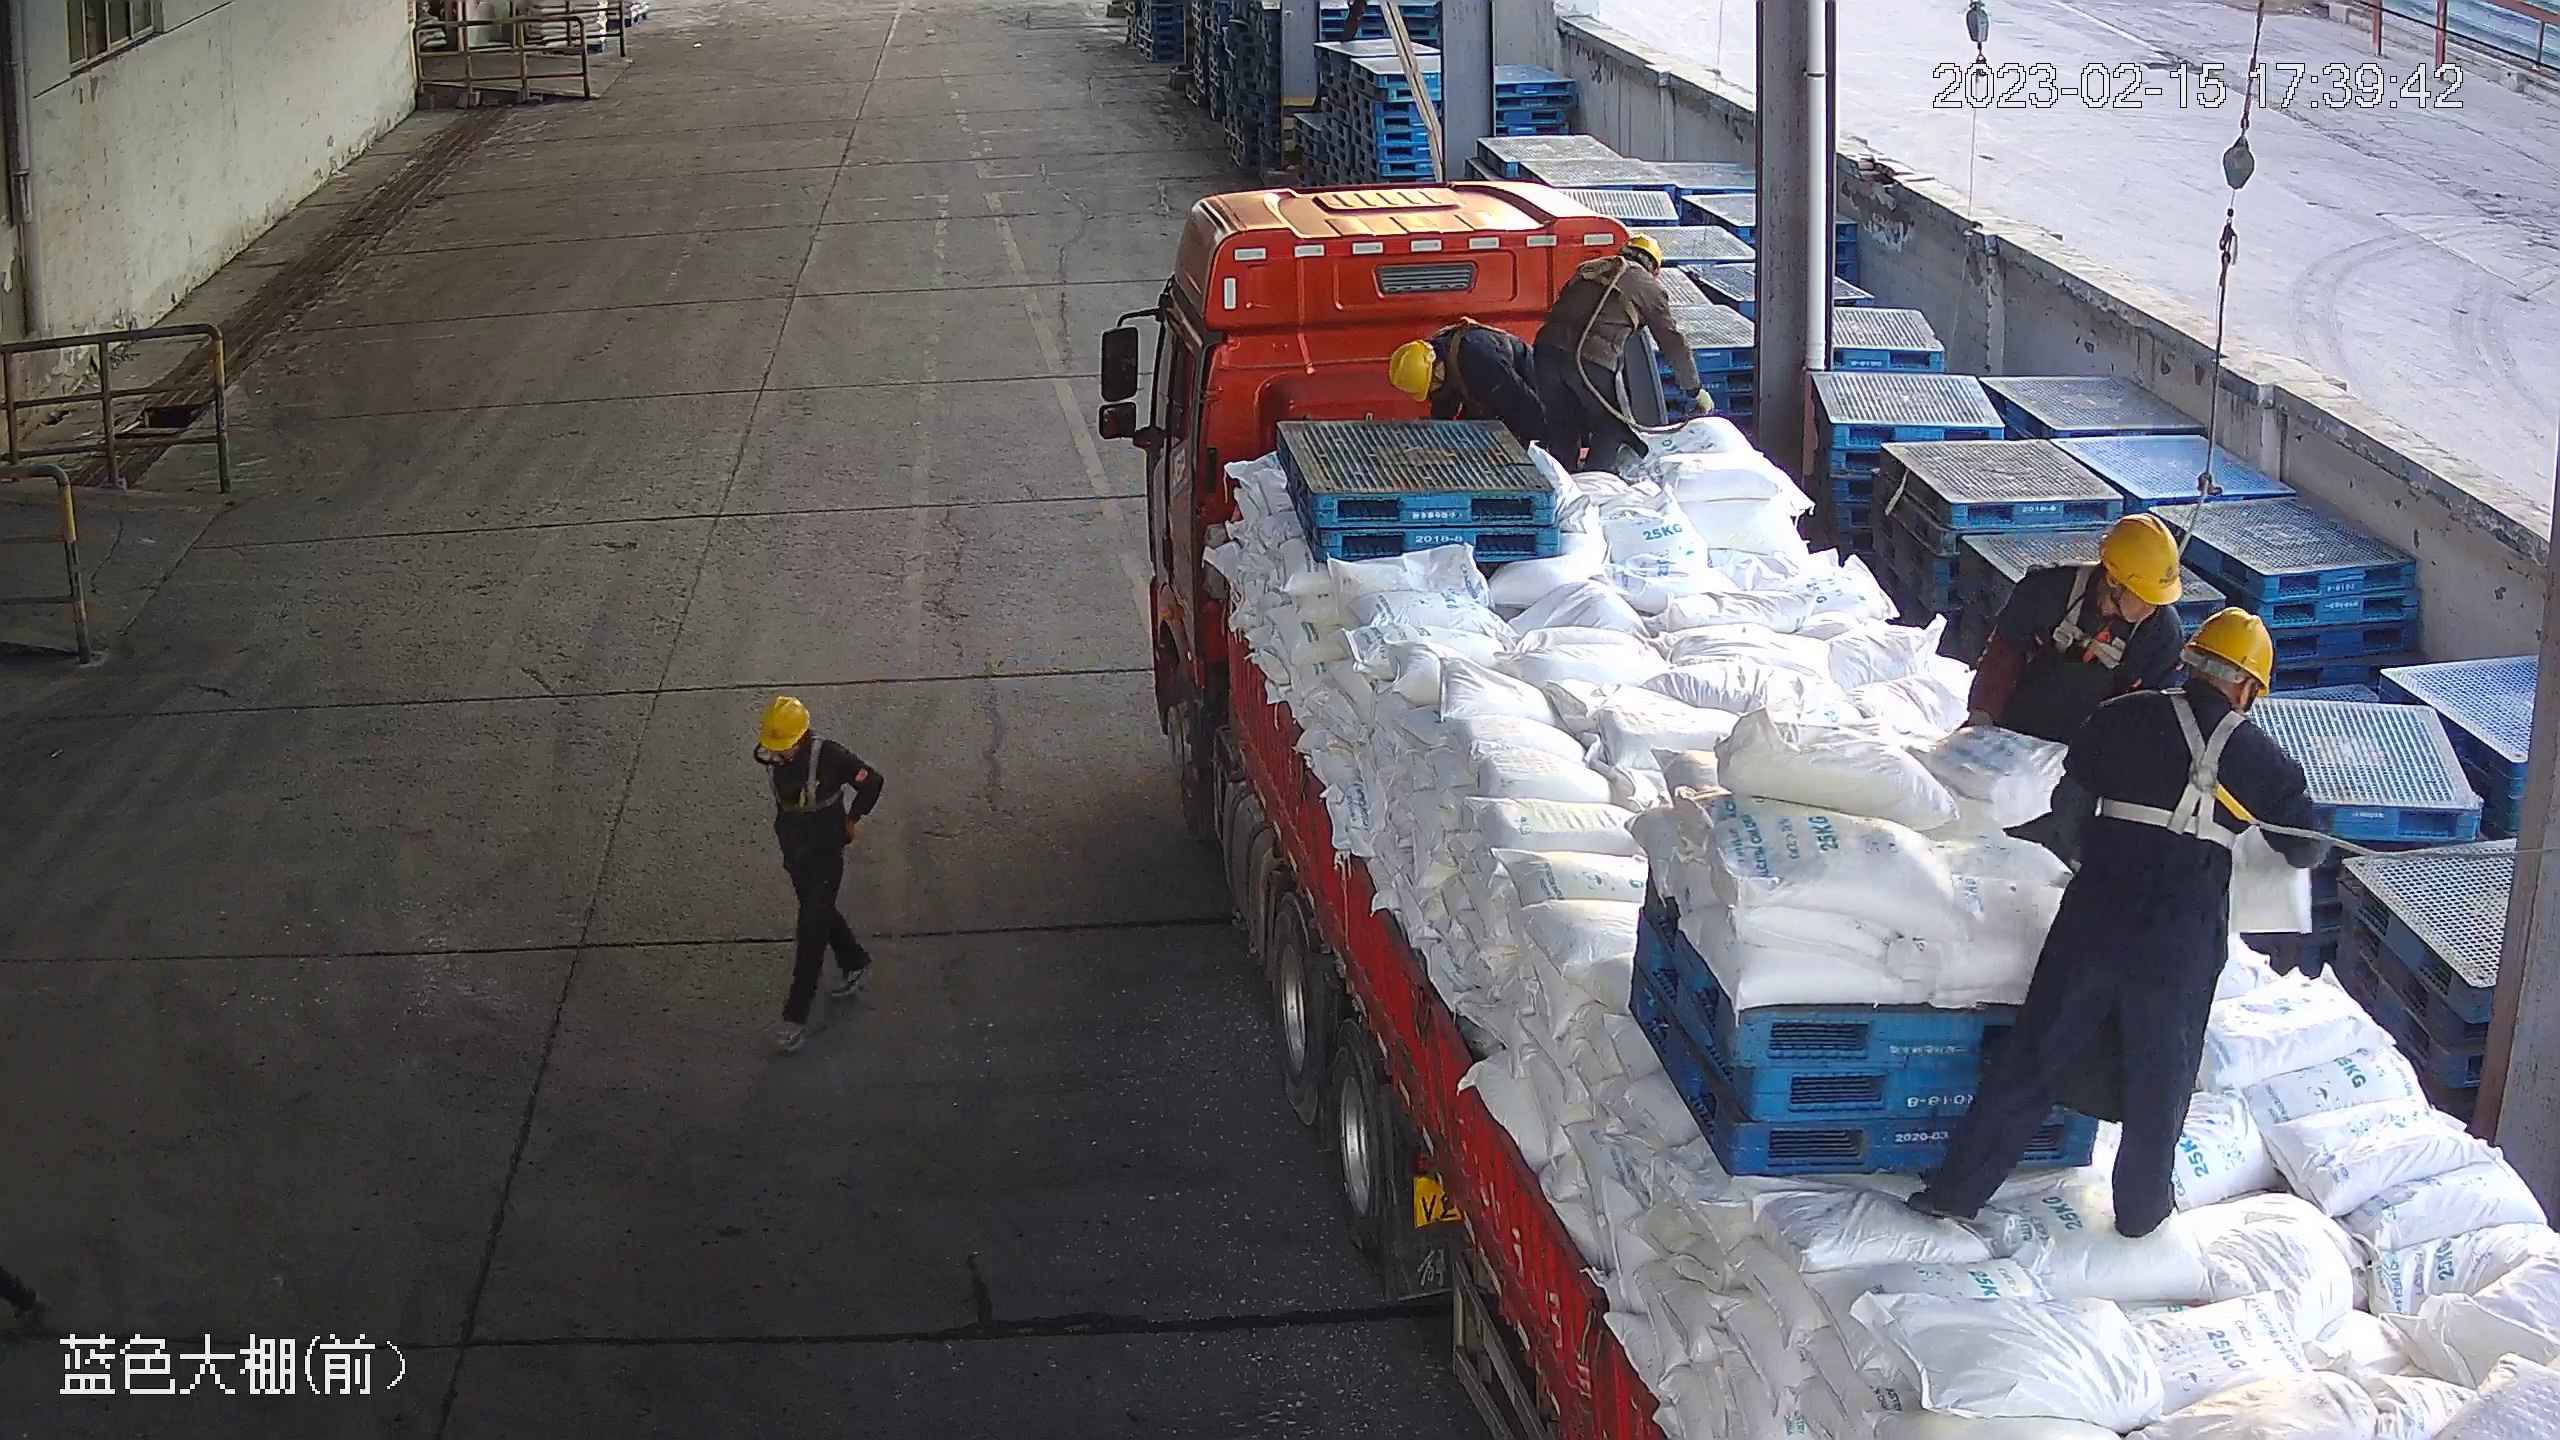belt: (2096, 686, 2279, 850), (2051, 562, 2163, 670), (761, 741, 854, 816), (1433, 316, 1506, 403), (1575, 255, 1649, 326)
head: (2087, 607, 2310, 788), (2020, 513, 2186, 654), (1387, 320, 1499, 404), (754, 694, 867, 774), (1562, 234, 1671, 311)
helmet: (2183, 606, 2274, 699), (2098, 513, 2184, 607), (1386, 339, 1435, 404), (758, 695, 811, 752)
people: (1906, 605, 2318, 1239), (753, 694, 887, 1055), (1538, 236, 1715, 478), (1387, 320, 1545, 455)
truck: (1142, 178, 2560, 1440)
